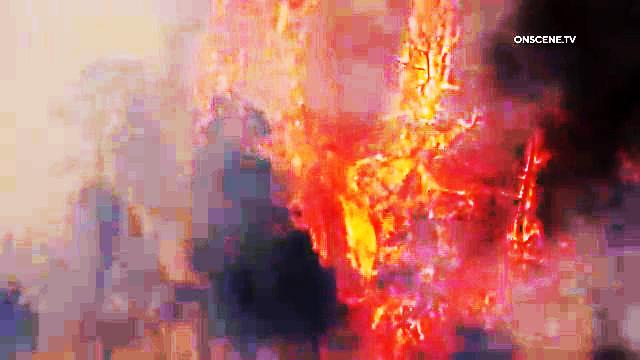fire: (346, 0, 512, 360), (213, 2, 331, 245)
smoke: (2, 6, 151, 219)
